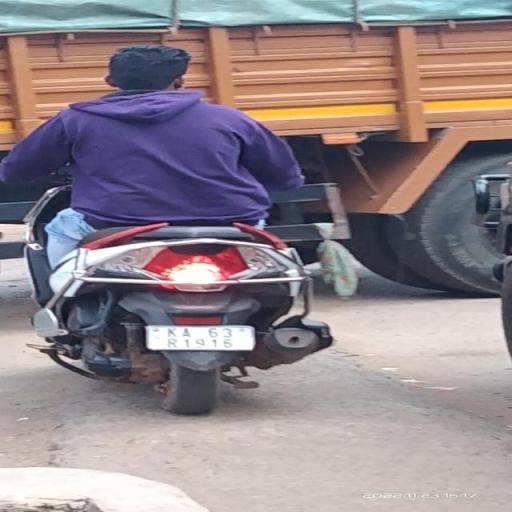bike: (3, 39, 336, 415)
numberplate: (143, 325, 254, 353)
withouthelmet: (110, 45, 190, 87)
